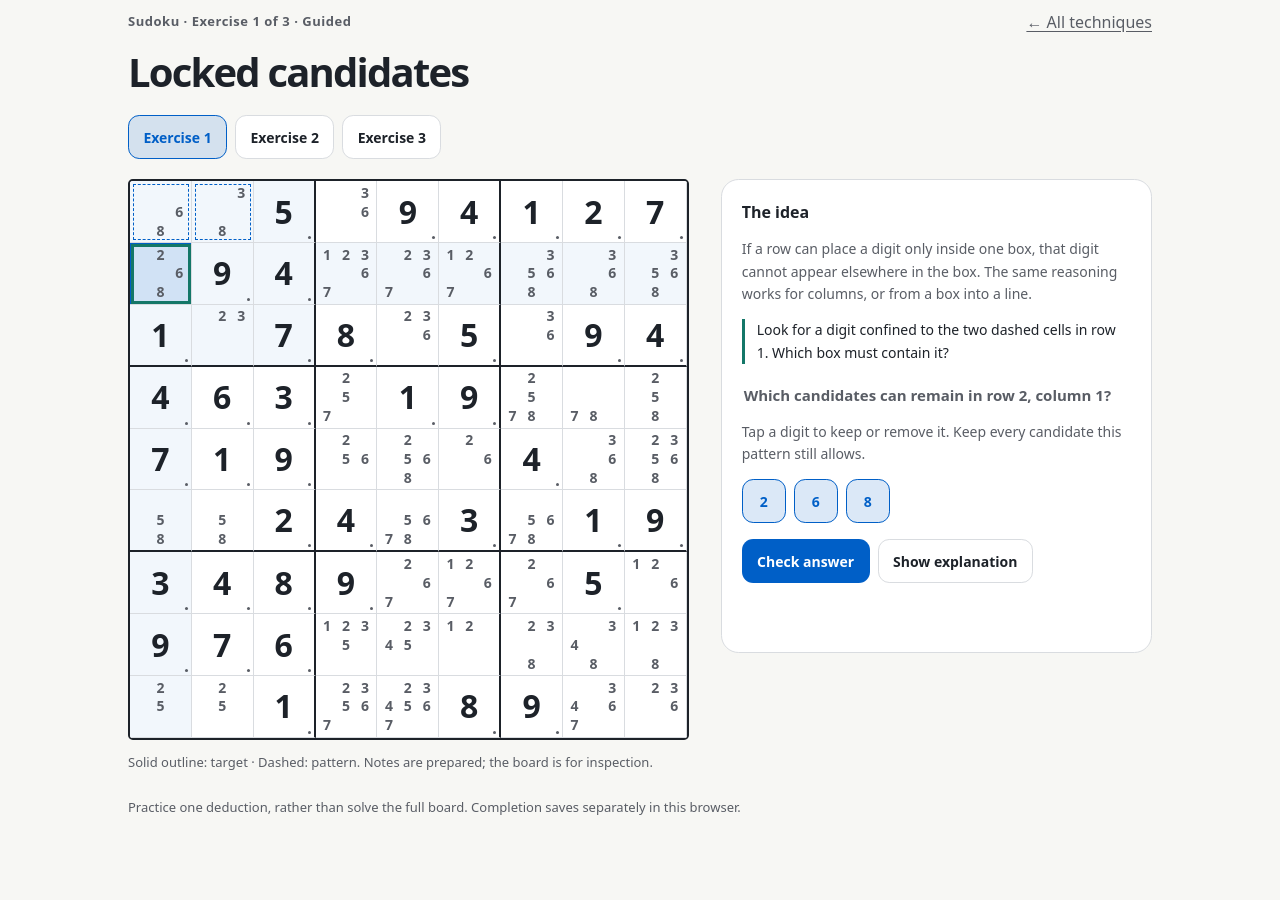
Test: does not announce an achievement when saving completion fails
Click the button "8" at [868, 501], box [846,479,890,523]
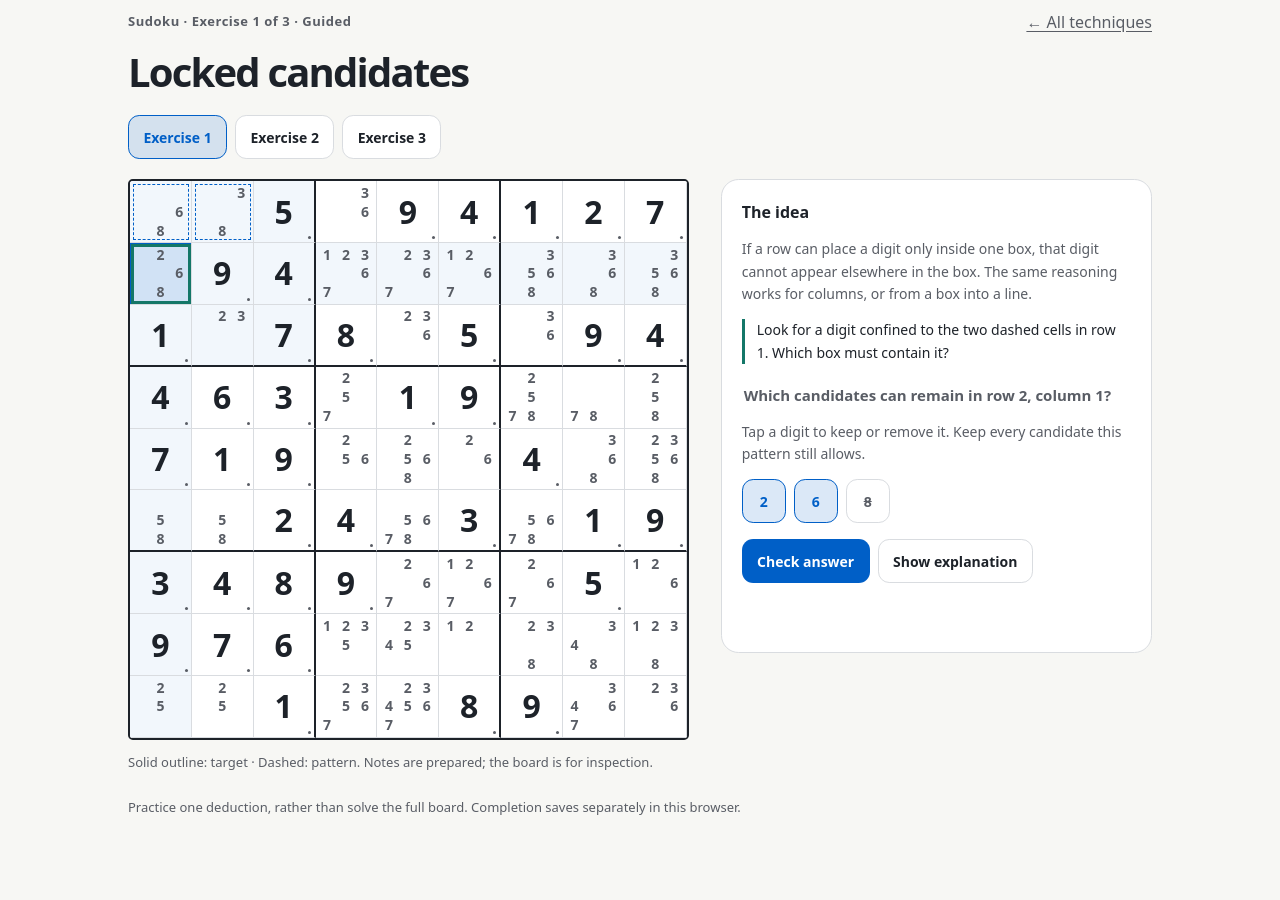
Click the button "Check answer" at [806, 561], box [742,539,870,583]
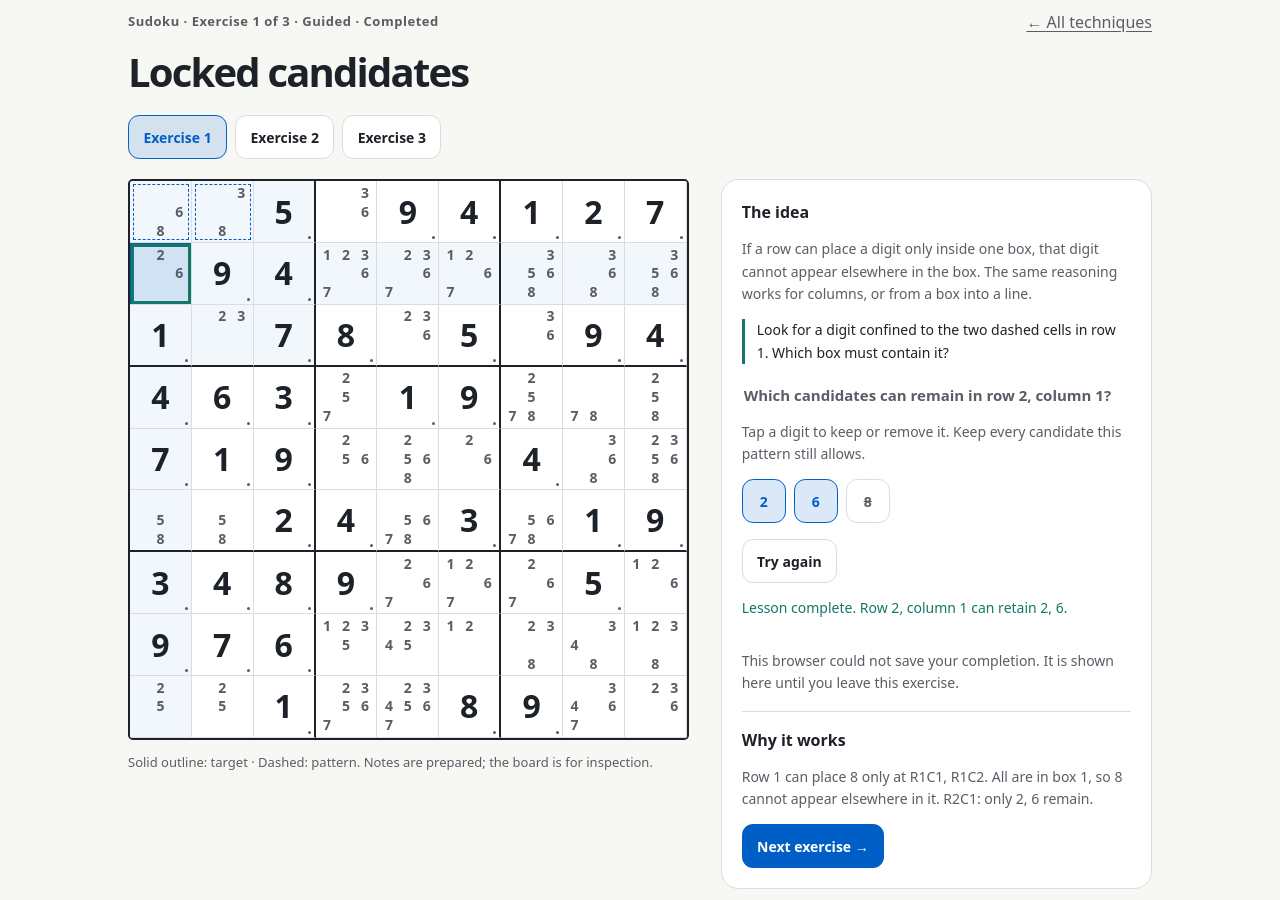
Expected: the message with class "lesson-feedback" shows "Lesson complete", [742,598,1068,617]
Expected: the text "could not save" is shown, [742,651,1114,692]
